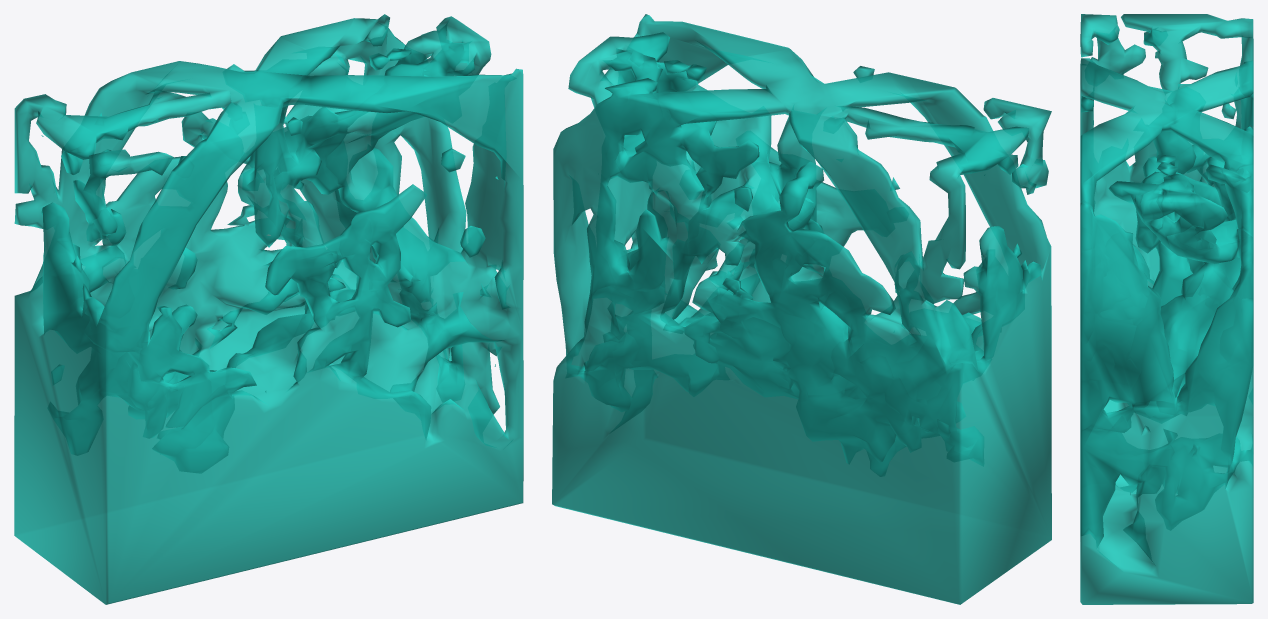
3 renders of one model, left to right at view 1: azimuth 30°, elevation 25°; view 2: azimuth 150°, elevation 25°; view 3: azimuth 270°, elevation 25°, orthographic. The views are drawn at different scales.
Visible parts, largest first — view 1: Liquid_Domain; view 2: Liquid_Domain; view 3: Liquid_Domain.
Part boxes in pixels (box(x1,y1,x2,y2)): Liquid_Domain: box(14, 14, 523, 604); Liquid_Domain: box(552, 14, 1051, 604); Liquid_Domain: box(1080, 14, 1253, 604).
Size of the model in its own units: 884 by 884 by 345.
